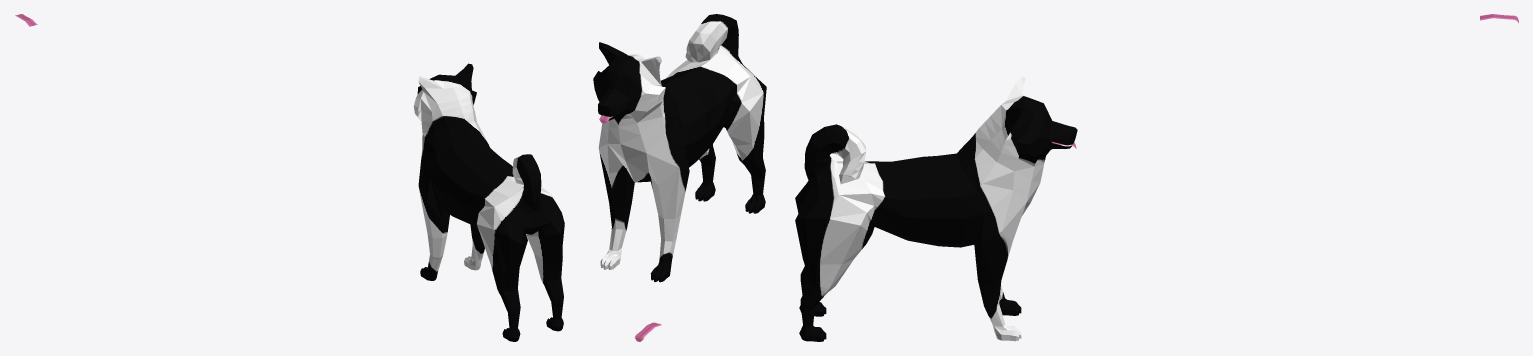
Rendered from dog_modified.gltf.
3 views of the same model, side by side, from view 1: azimuth 30°, elevation 25°; view 2: azimuth 150°, elevation 25°; view 3: azimuth 270°, elevation 25° (orthographic). The views are drawn at different scales.
Visible parts, largest first — view 1: mesh_2; view 2: mesh_2, mesh_1; view 3: mesh_2.
Boxes of the visible parts, x1=… form: mesh_2: x1=413, y1=63, x2=564, y2=341; mesh_2: x1=593, y1=14, x2=766, y2=282; mesh_1: x1=634, y1=322, x2=661, y2=341; mesh_2: x1=795, y1=77, x2=1077, y2=341.
Size of the model in its own units: 11.94 by 8.74 by 24.46.
Materials: 3 (3 with a texture image).
